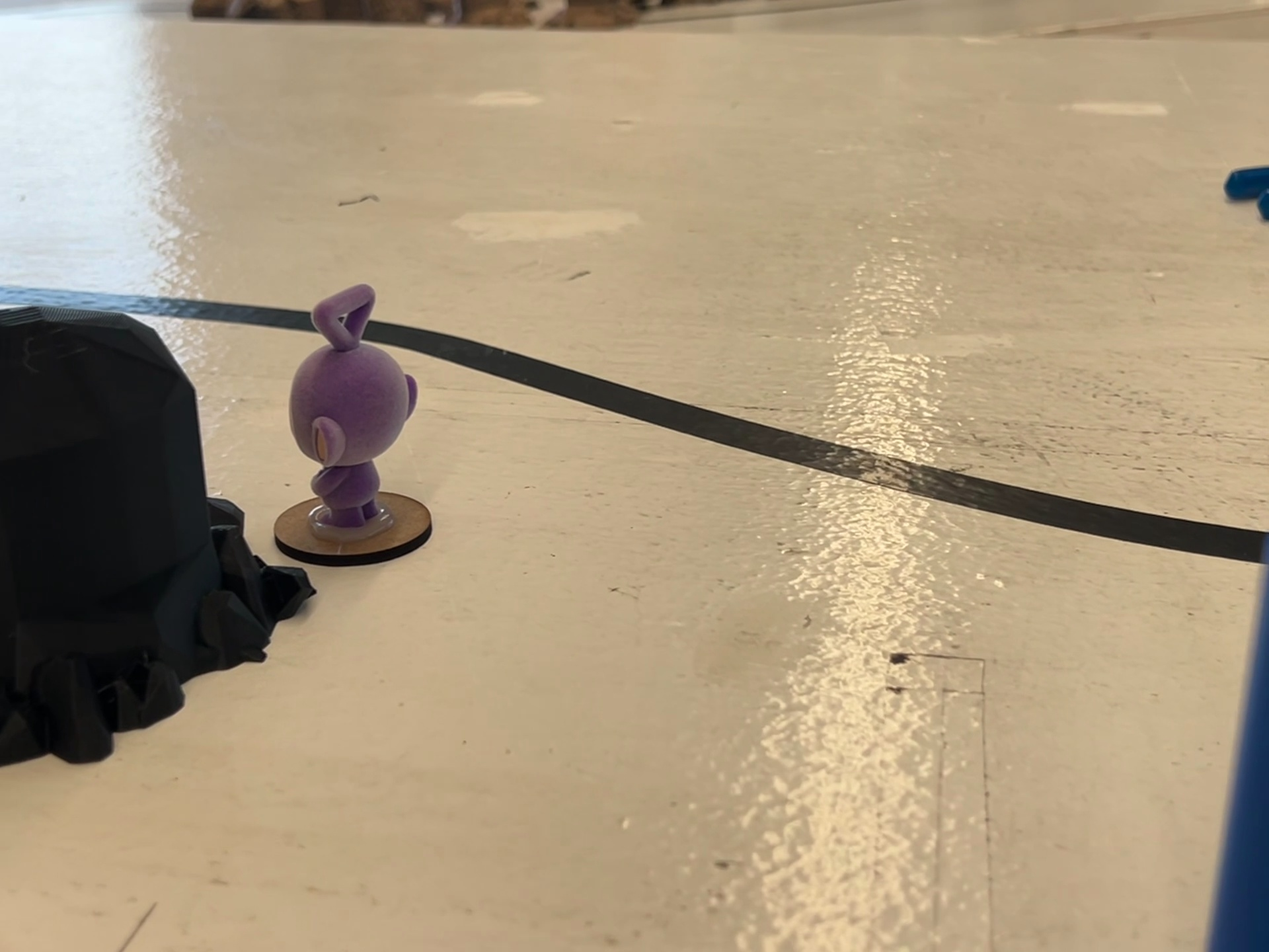teletubby: (289, 285, 417, 530)
